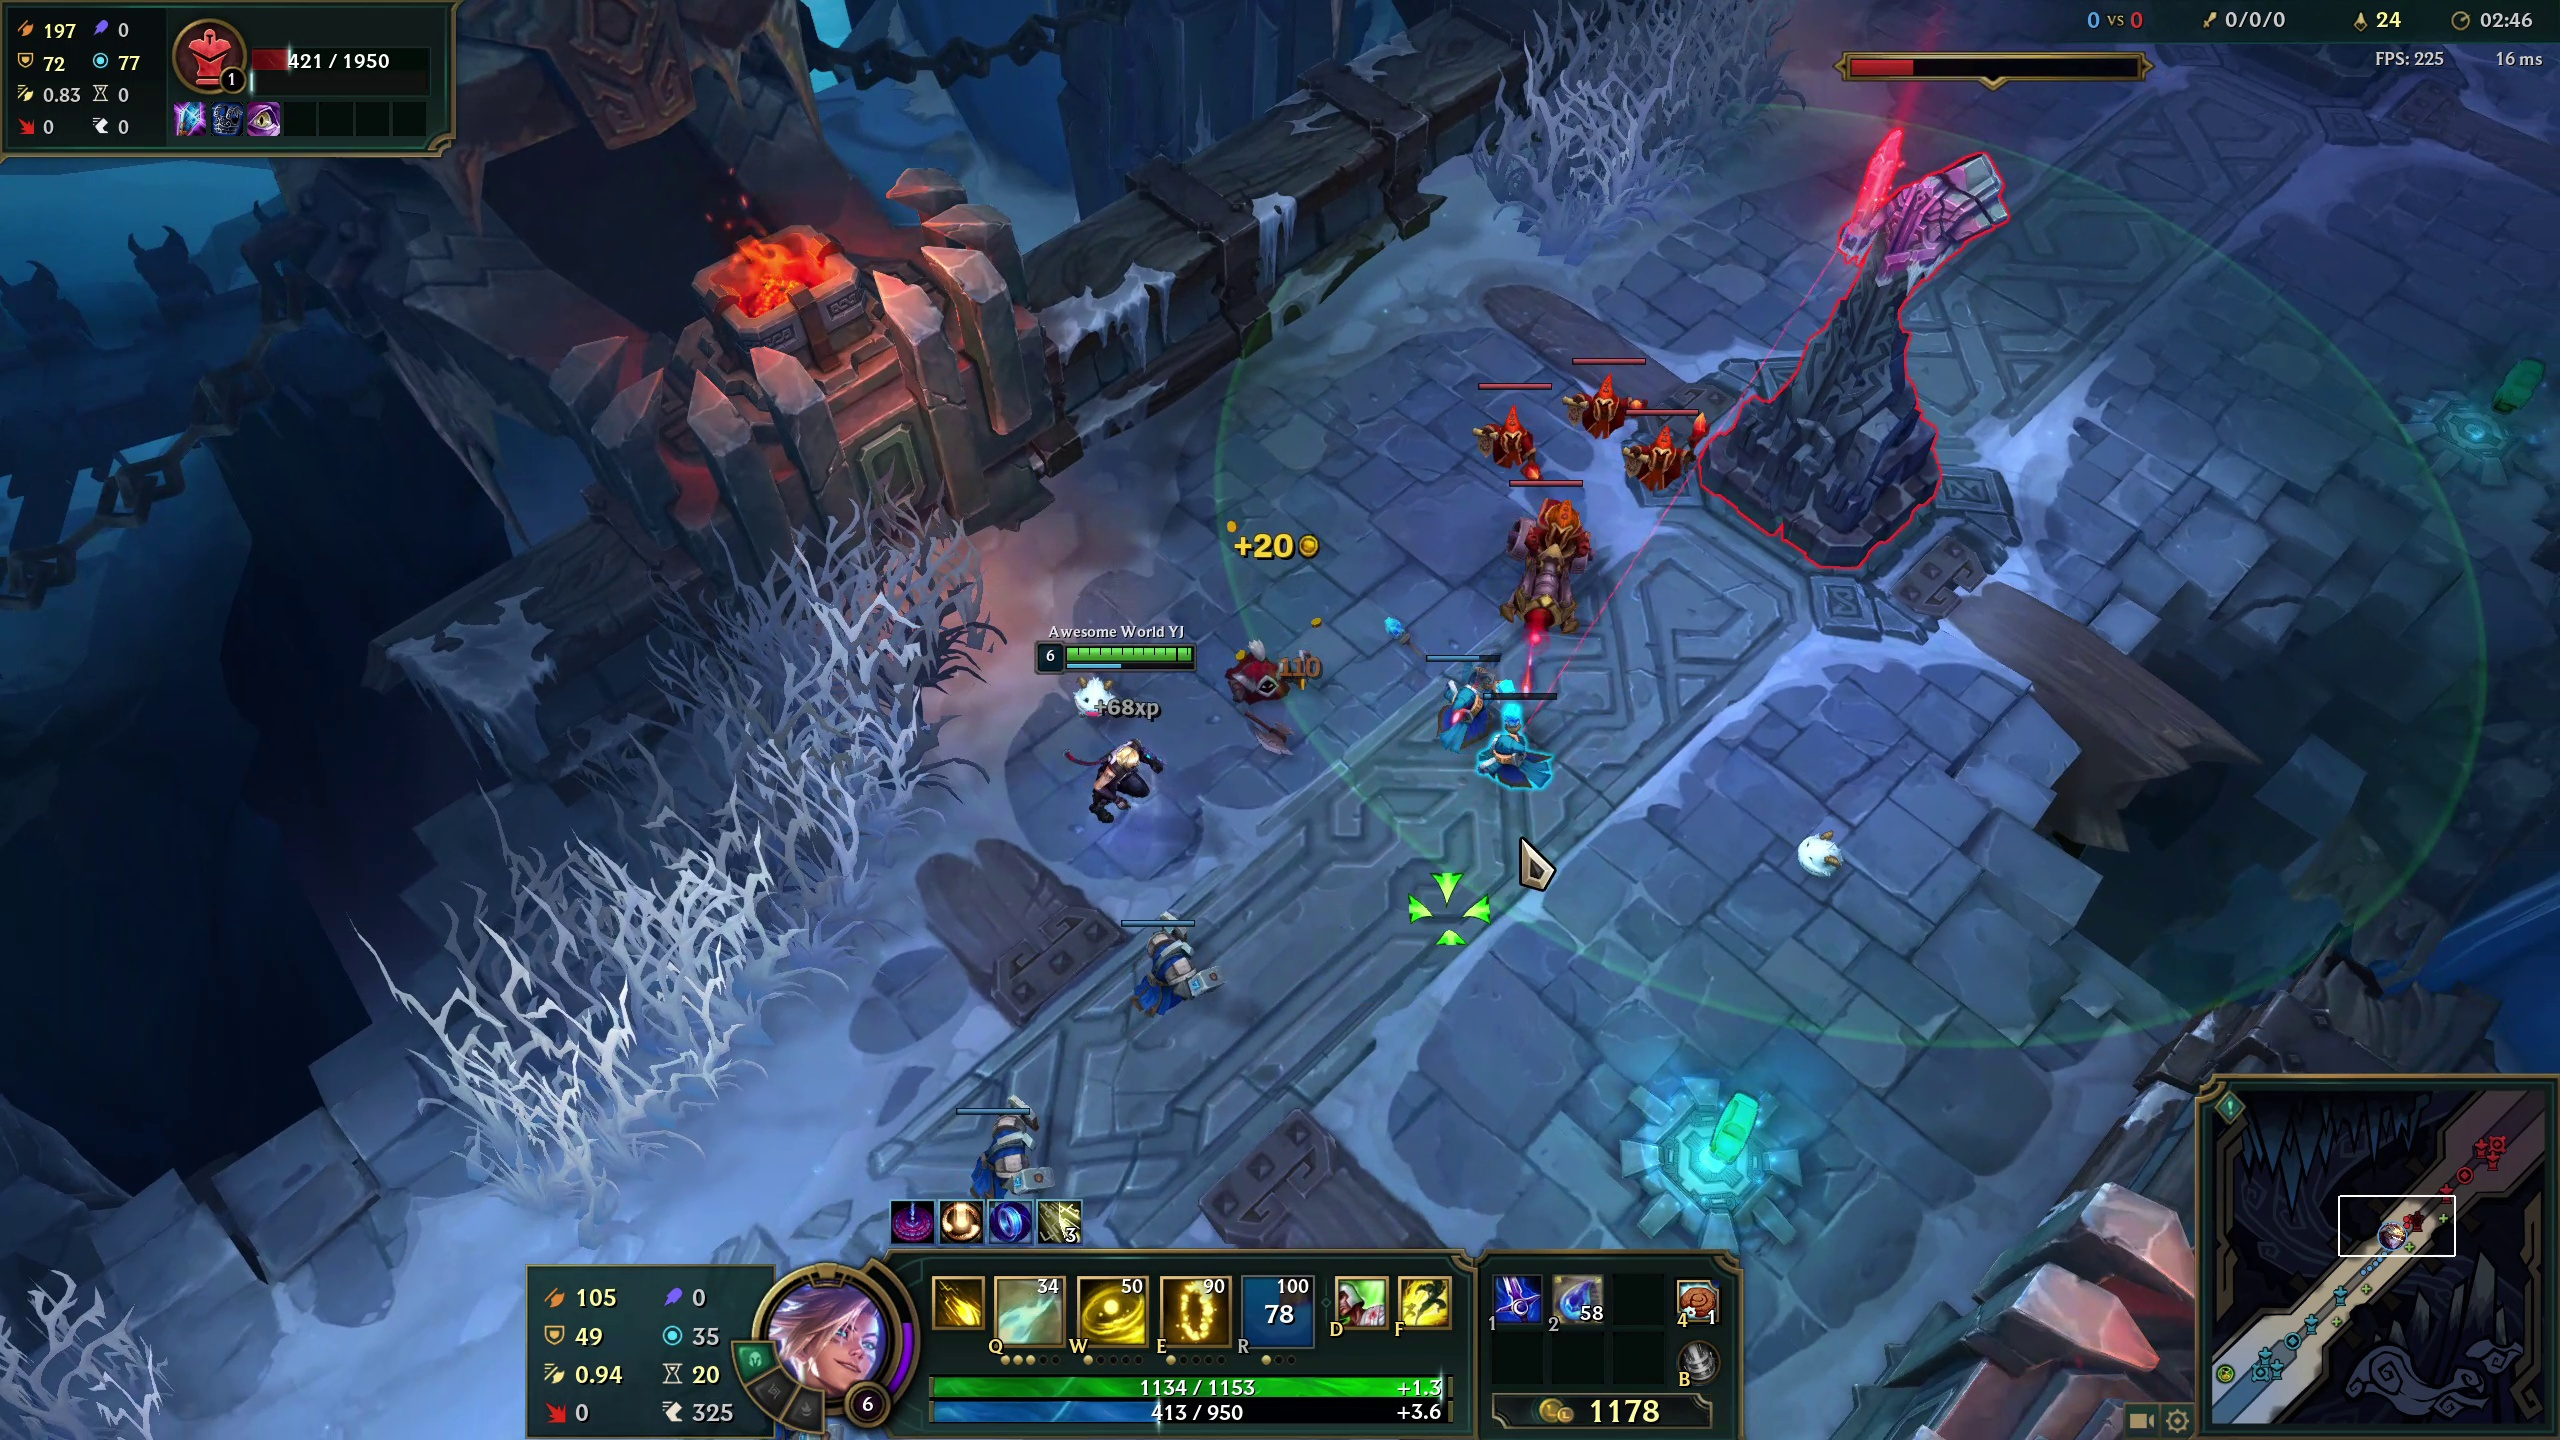EZ: (1034, 624, 1190, 826)
EnemyMinion: (1560, 331, 1647, 434), (1612, 397, 1700, 501), (1468, 364, 1556, 468)
EnemySuperMinnion: (1503, 478, 1607, 624)
Glass: (687, 566, 941, 821), (498, 890, 751, 1143), (1498, 11, 1758, 218), (1496, 9, 1756, 216)
MyMinion: (1480, 682, 1582, 784), (1118, 905, 1220, 1006), (1401, 638, 1502, 740), (953, 1092, 1053, 1192)
Turret: (1730, 172, 2010, 608)
